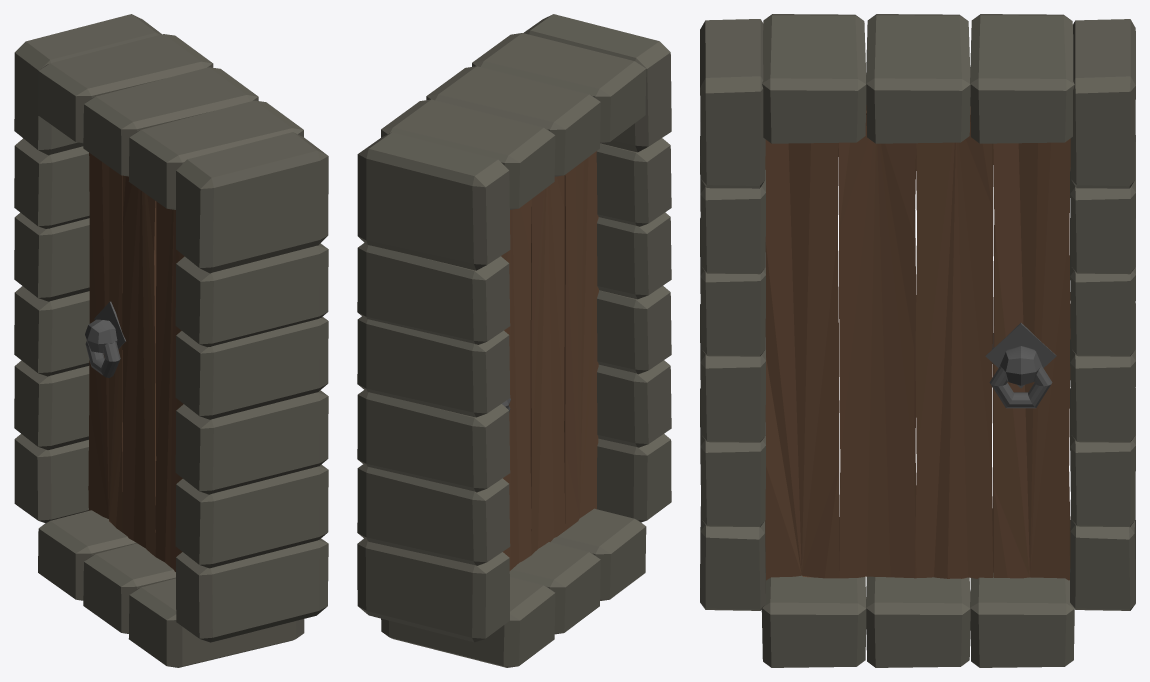
The model's file is door with border.fbx.
3 renders of one model, left to right at view 1: azimuth 30°, elevation 25°; view 2: azimuth 150°, elevation 25°; view 3: azimuth 270°, elevation 25°, orthographic. The views are drawn at different scales.
Parts seen in each view (by area): view 1: Cube.018, door; view 2: Cube.018, door; view 3: Cube.018, door.
Part boxes in pixels (box(x1,y1,x2,y2)): Cube.018: box(14, 14, 328, 667); door: box(85, 152, 184, 571); Cube.018: box(357, 14, 671, 667); door: box(501, 151, 598, 570); Cube.018: box(700, 14, 1135, 667); door: box(765, 105, 1070, 580).
Bounding box in the file's own units: 94.87 × 336 × 226.
